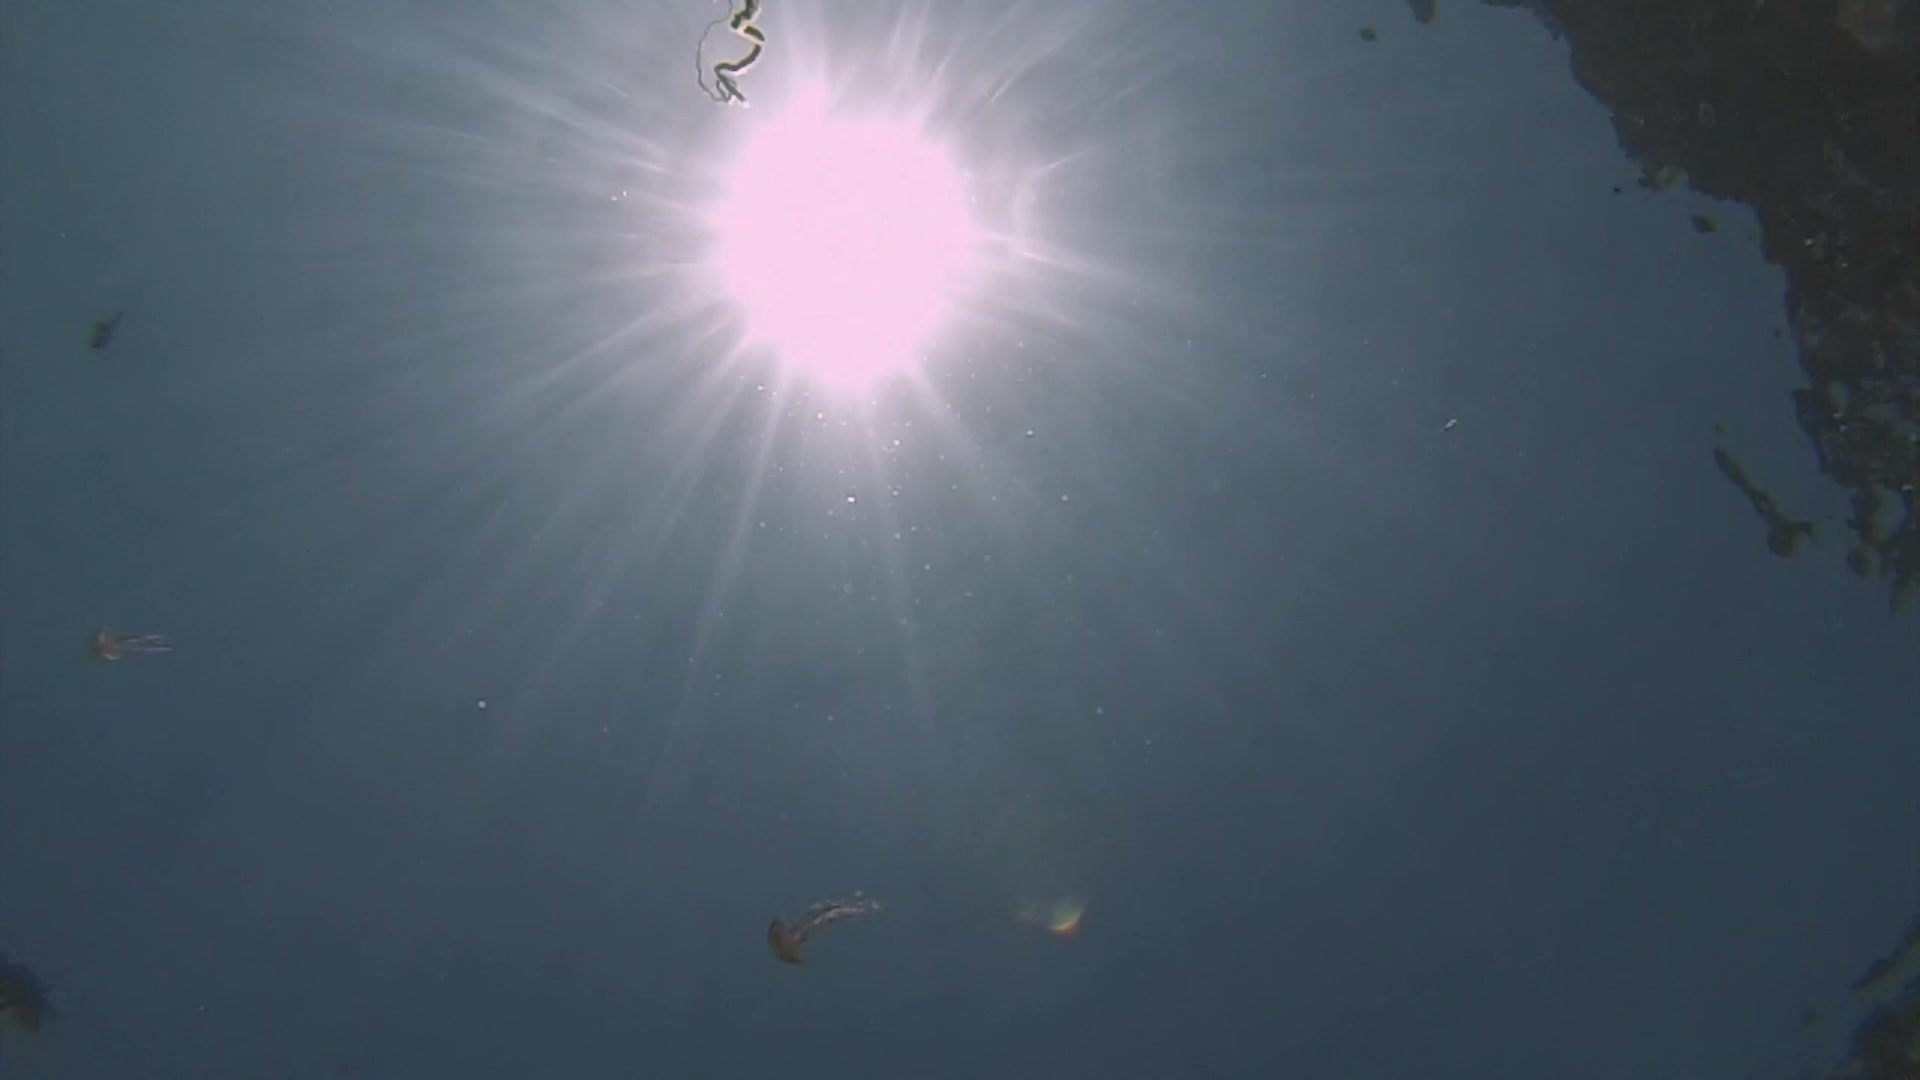pelagia: (764, 884, 887, 971), (84, 624, 185, 682)
